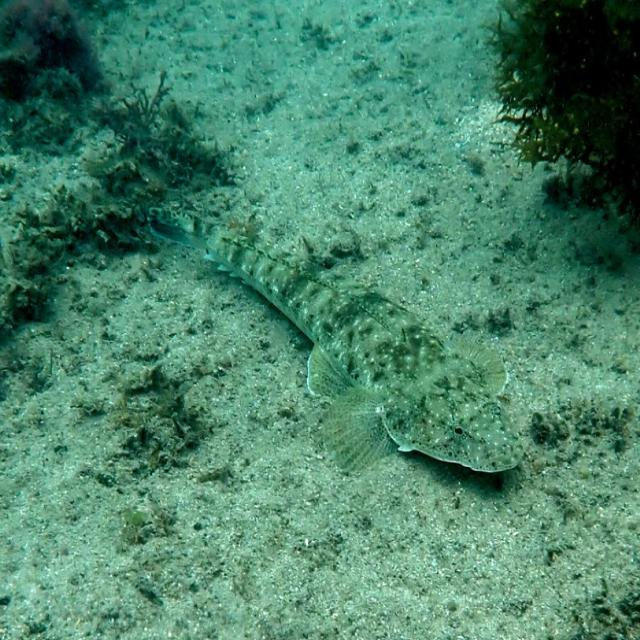Flathead: (132, 190, 534, 498)
